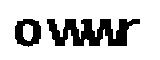o: (10, 10, 43, 52)
r: (116, 9, 143, 49)
w: (45, 14, 88, 50), (85, 12, 119, 54)
